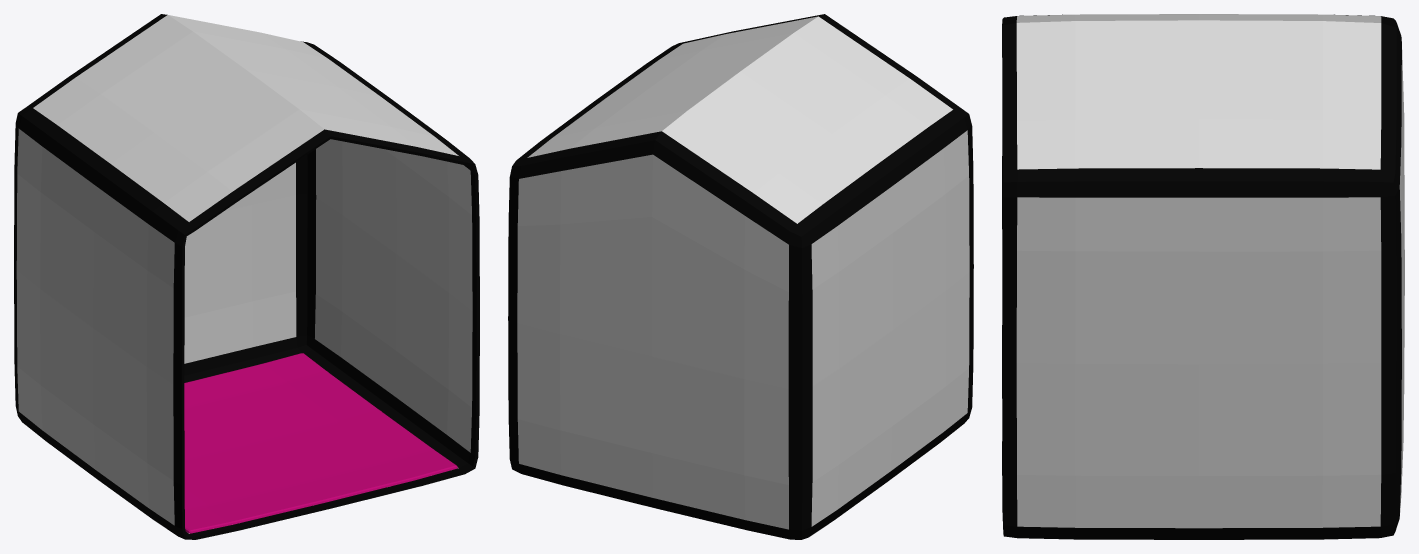
The model's file is ksita.fbx.
The picture shows the model from 3 angles, left to right: view 1: azimuth 30°, elevation 25°; view 2: azimuth 150°, elevation 25°; view 3: azimuth 270°, elevation 25°; orthographic projection. The views are drawn at different scales.
Parts seen in each view (by area): view 1: Cube.032; view 2: Cube.032; view 3: Cube.032.
Part boxes in pixels (x1=…): Cube.032: x1=14, y1=14, x2=479, y2=539; Cube.032: x1=508, y1=14, x2=973, y2=539; Cube.032: x1=1002, y1=14, x2=1404, y2=539.
Size of the model in its own units: 201 by 239 by 197.
